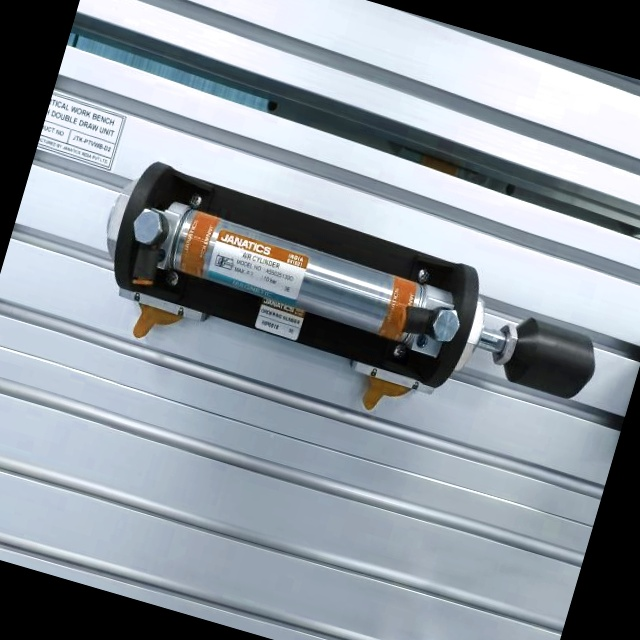double acting pneumatic cylinder: (71, 142, 626, 479)
